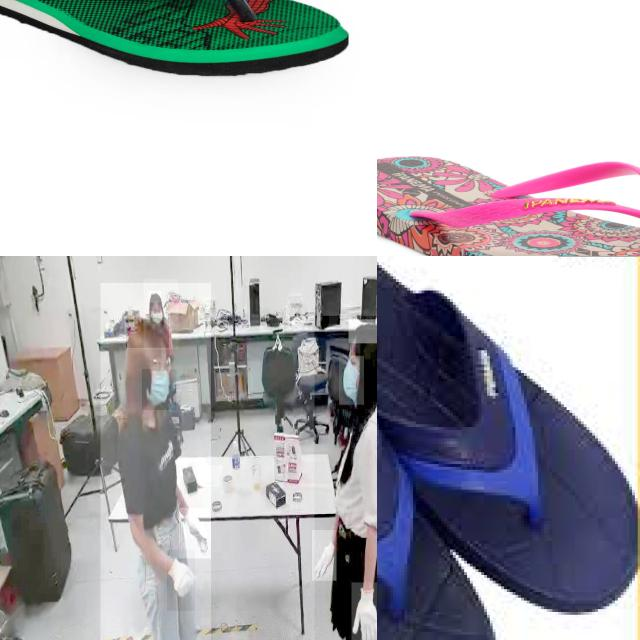Sandals: (377, 256, 640, 640), (377, 151, 640, 256), (0, 0, 351, 78)
face_mask: (142, 369, 176, 410), (339, 356, 364, 404), (146, 304, 164, 328)
hand_glove: (167, 550, 195, 612), (179, 508, 211, 558), (351, 582, 377, 640), (312, 530, 337, 582)
head_nohelmet: (126, 317, 170, 348), (348, 319, 377, 344), (148, 291, 162, 303)
person: (100, 282, 211, 640), (314, 315, 377, 640), (144, 278, 178, 349)
